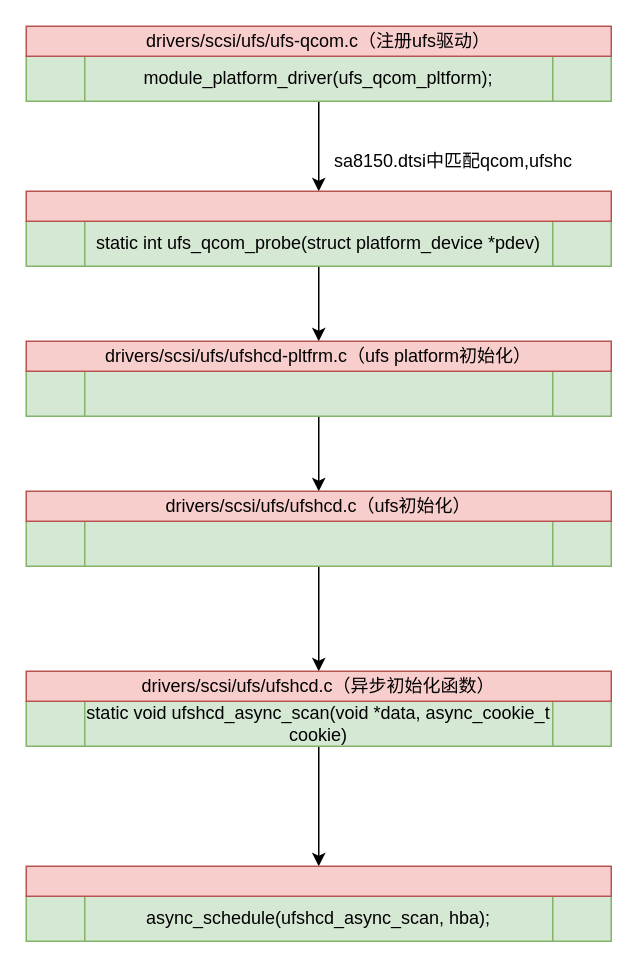
The diagram is 638 pixels wide and 968 high, and some of its shapes have lost their labels. Each missing label, with the centre of its shape:
drivers/scsi/ufs/ufs-qcom.c（dts匹配到驱动）: the point at 318,205
drivers/scsi/ufs/ufshcd.c（建立scsi得连接）: the point at 318,880
ufshcd_init(hba, mmio_base, irq);: the point at 318,543
ufshcd_pltfrm_init(pdev, &ufs_hba_qcom_variant);: the point at 318,393
